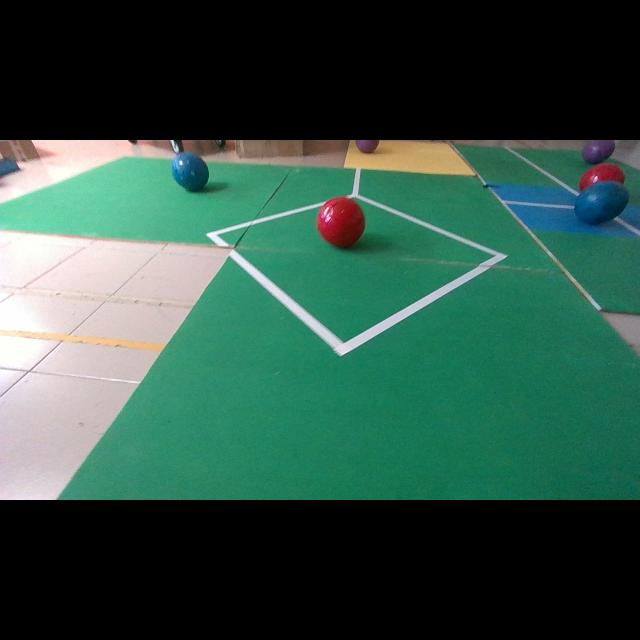B: (574, 181, 629, 224), (172, 152, 209, 191)
P: (582, 140, 615, 163)
R: (318, 196, 365, 248), (579, 164, 625, 191)
